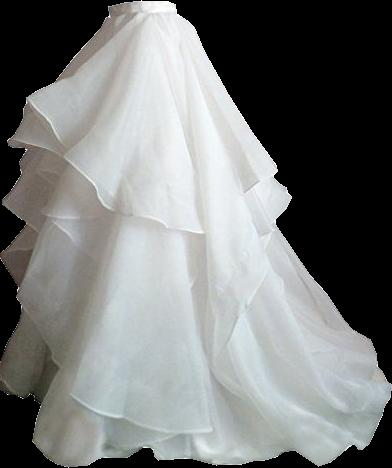Hemline: (1, 197, 391, 465), (7, 98, 291, 239), (0, 367, 230, 467)
Waistline: (107, 7, 179, 19), (108, 0, 176, 8)
